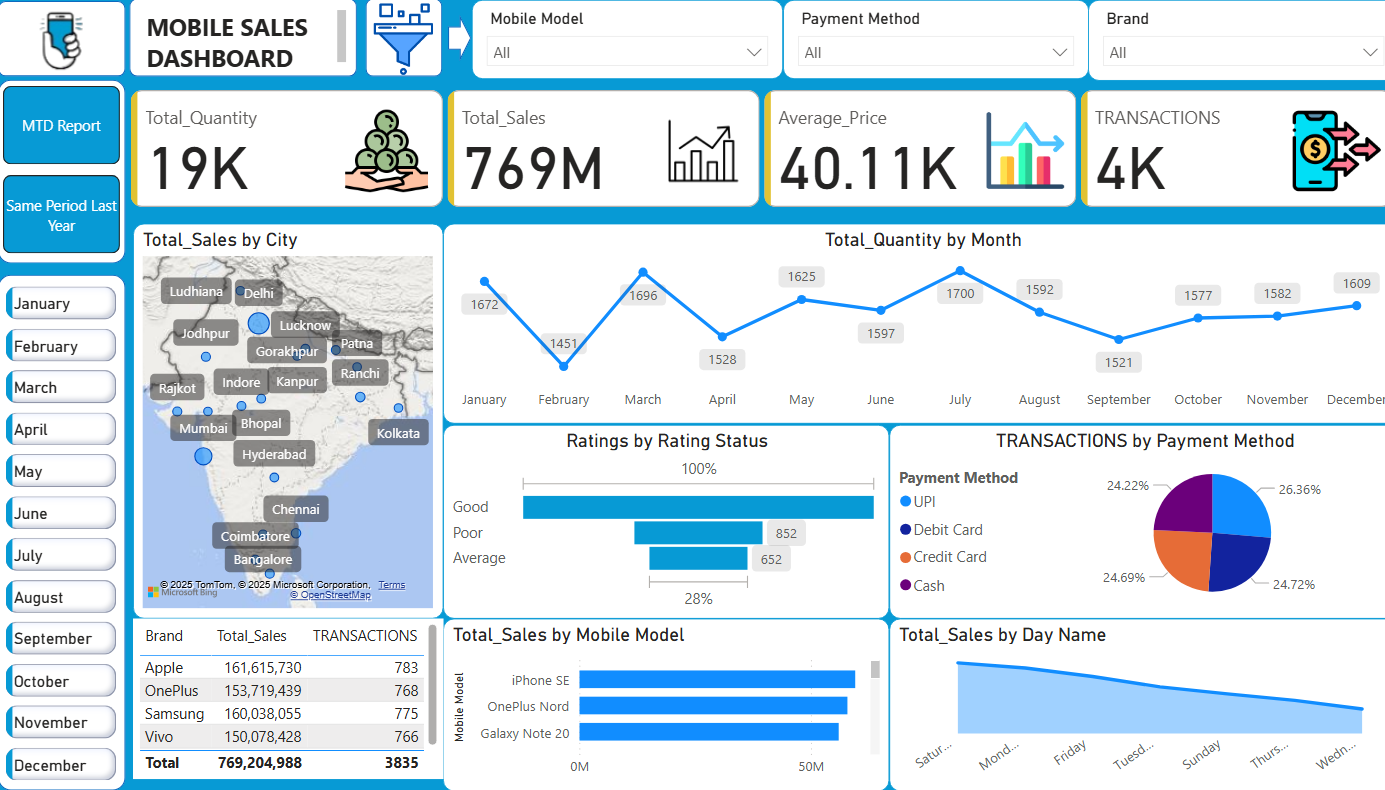

Layout of this report page (visuals, bound fields, positions):
{"tool":"powerbi","page":{"name":"Dashboard","canvas":[1280,720],"ordinal":0},"visuals":[{"type":"shape","box":[0,5,115.7,68.4],"z":0},{"type":"image","box":[0,6.2,110.7,67.2],"z":1000},{"type":"shape","box":[0,75.9,115.7,166.7],"z":2000},{"type":"shape","box":[0,252.5,115.7,467.7],"z":3000},{"type":"advancedSlicerVisual","fields":{"Values":["Custom_Calender.Date.Variation.Date Hierarchy.Month"]},"box":[2.5,258.7,110.7,461.5],"z":4000},{"type":"cardVisual","fields":{"Data":["Sales_Data.Total_Quantity","Sales_Data.Total_Sales","Sales_Data.Average_Price","Sales_Data.TRANSACTIONS"]},"box":[115.7,80.9,1155.6,116.9],"z":5000},{"type":"slicer","fields":{"Values":["Sales_Data.Mobile Model"]},"box":[429.2,3.7,282.4,72.1],"z":6000},{"type":"slicer","fields":{"Values":["Sales_Data.Payment Method"]},"box":[711.5,3.7,277.4,72.1],"z":7000},{"type":"slicer","fields":{"Values":["Sales_Data.Brand"]},"box":[988.9,3.7,282.4,73.4],"z":8000},{"type":"shape","box":[333.4,2.5,69.7,70.9],"z":9000},{"type":"image","box":[320.9,1.2,93.3,75.9],"z":10000},{"type":"shape","box":[408,17.4,21.1,42.3],"z":11000},{"type":"shape","box":[119.4,2.5,206.5,70.9],"z":12000},{"type":"textbox","box":[129.4,7.5,191.6,62.2],"z":13000},{"type":"map","fields":{"Category":["Sales_Data.City"],"Size":["Sales_Data.Total_Sales"]},"box":[122.1,205.8,281.3,358.1],"z":14000},{"type":"lineChart","fields":{"Category":["Custom_Calender.Date.Variation.Date Hierarchy.Month"],"Y":["Sales_Data.Total_Quantity"]},"box":[403,206.5,869.5,181.6],"z":15000},{"type":"funnel","title":"Ratings by Rating Status","fields":{"Category":["Sales_Data.Rating Status"],"Y":["CountNonNull(Sales_Data.Customer Ratings)"]},"box":[403.4,388.3,404.8,175.6],"z":16000},{"type":"pieChart","fields":{"Y":["Sales_Data.TRANSACTIONS"],"Category":["Sales_Data.Payment Method"]},"box":[808.2,388.3,462.4,175.6],"z":17000},{"type":"clusteredBarChart","fields":{"Y":["Sales_Data.Total_Sales"],"Category":["Sales_Data.Mobile Model"]},"box":[403.4,564,404.8,156.4],"z":18000},{"type":"areaChart","fields":{"Category":["Custom_Calender.Day Name"],"Y":["Sales_Data.Total_Sales"]},"box":[808.2,564,462.4,156.4],"z":19000},{"type":"tableEx","fields":{"Values":["Sales_Data.Brand","Sales_Data.Total_Sales","Sales_Data.TRANSACTIONS"]},"box":[122.1,564,281.3,145.5],"z":20000},{"type":"pageNavigator","box":[5,82.1,107,153],"z":20001}]}

Visuals, with their boxes in screenshot pixels (x1, y1, x2, y2), scaled from the page's 1280x720 canvas onto the 1385x790 screenshot:
shape: crop(0, 5, 125, 81)
image: crop(0, 7, 120, 81)
shape: crop(0, 83, 125, 266)
shape: crop(0, 277, 125, 789)
advancedSlicerVisual - Custom_Calender.Date.Variation.Date Hierarchy.Month: crop(3, 284, 122, 789)
cardVisual - Sales_Data.Total_Quantity x Sales_Data.Total_Sales: crop(125, 89, 1376, 217)
slicer - Sales_Data.Mobile Model: crop(464, 4, 770, 83)
slicer - Sales_Data.Payment Method: crop(770, 4, 1070, 83)
slicer - Sales_Data.Brand: crop(1070, 4, 1376, 85)
shape: crop(361, 3, 436, 81)
image: crop(347, 1, 448, 85)
shape: crop(441, 19, 464, 66)
shape: crop(129, 3, 353, 81)
textbox: crop(140, 8, 347, 76)
map - Sales_Data.City x Sales_Data.Total_Sales: crop(132, 226, 436, 619)
lineChart - Custom_Calender.Date.Variation.Date Hierarchy.Month x Sales_Data.Total_Quantity: crop(436, 227, 1377, 426)
"Ratings by Rating Status" funnel: crop(436, 426, 874, 619)
pieChart - Sales_Data.TRANSACTIONS x Sales_Data.Payment Method: crop(874, 426, 1375, 619)
clusteredBarChart - Sales_Data.Total_Sales x Sales_Data.Mobile Model: crop(436, 619, 874, 789)
areaChart - Custom_Calender.Day Name x Sales_Data.Total_Sales: crop(874, 619, 1375, 789)
tableEx - Sales_Data.Brand x Sales_Data.Total_Sales: crop(132, 619, 436, 778)
pageNavigator: crop(5, 90, 121, 258)
